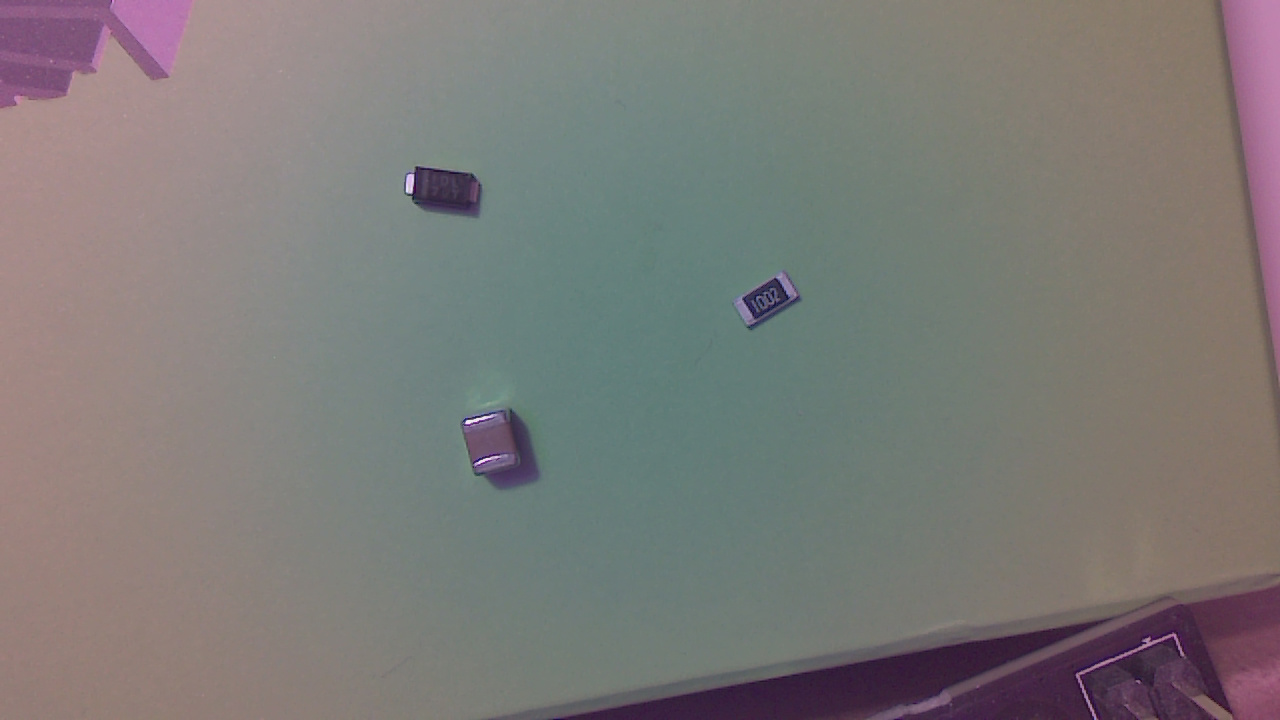Condensator: (461, 416, 533, 483)
Diode: (405, 170, 494, 221)
Resistor: (737, 273, 807, 333)
